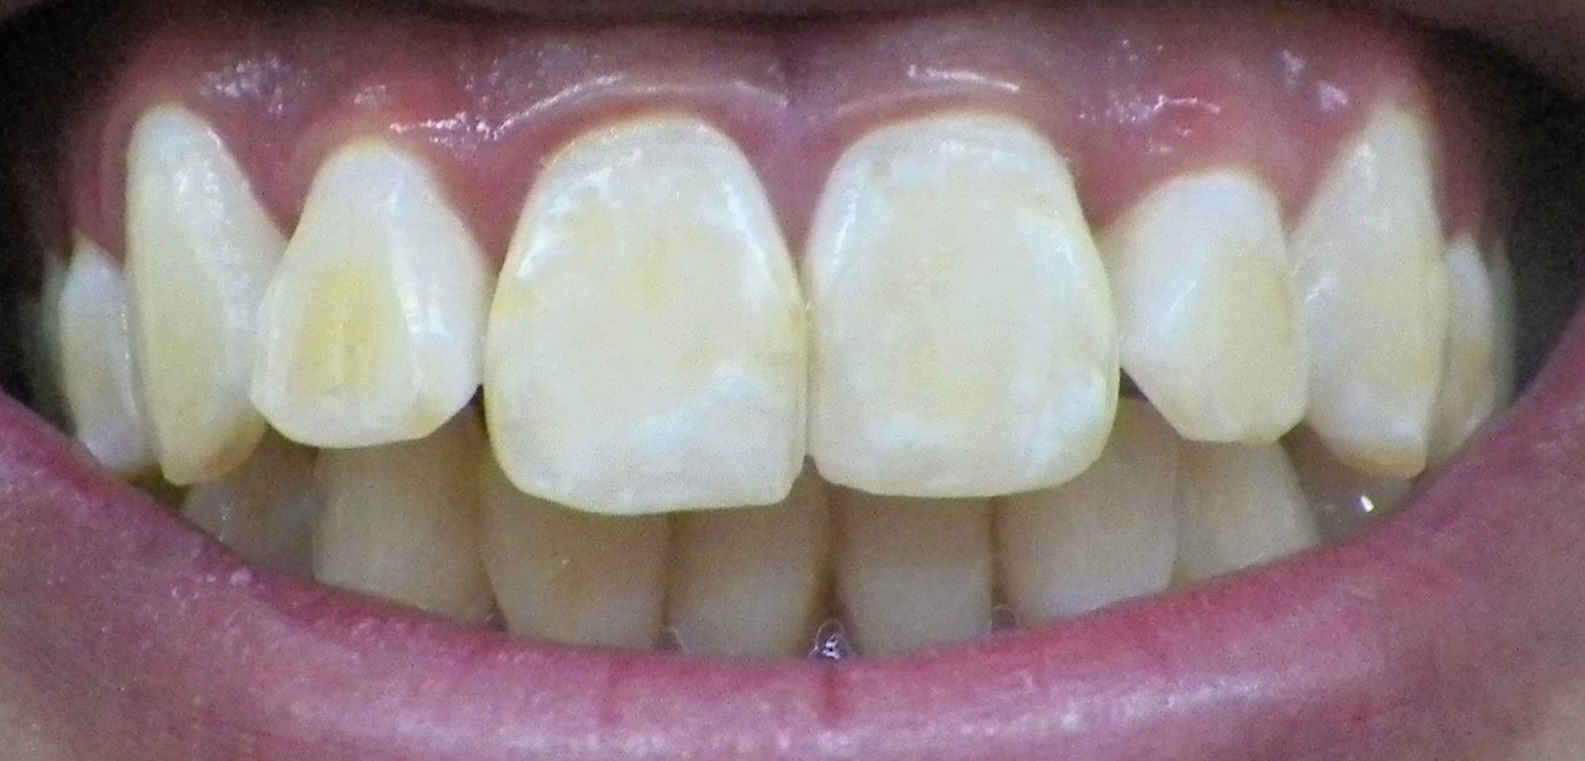boca: (37, 92, 1529, 653)
